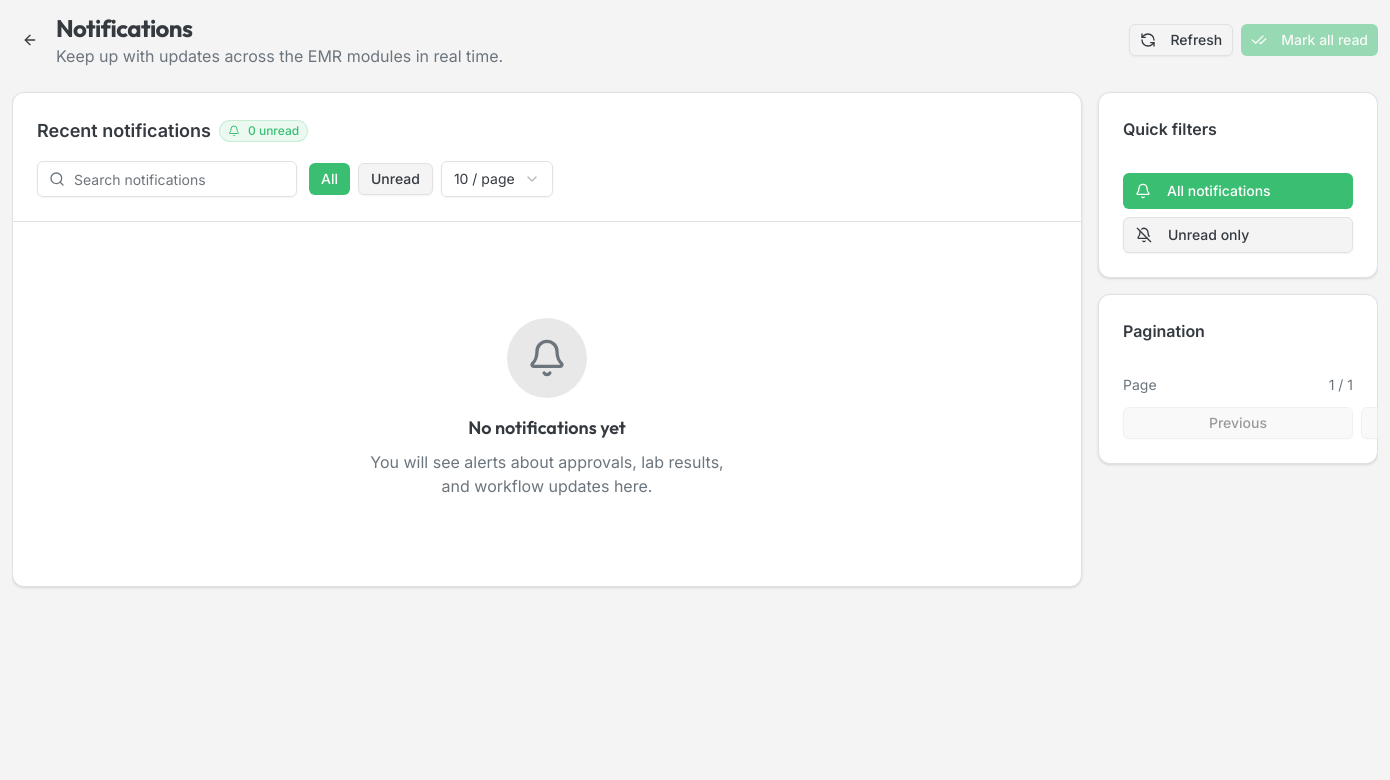
NotificationsPage › renders filter tabs and toggles empty states per filter
This screenshot has width=1390, height=780.
Expected: the button "All" is shown, [309,163,350,195]
Expected: the heading "No notifications yet" is shown, [468,414,626,442]
What coordinates should you click on to do the following:
click the button "Unread"
I would click on:
 (395, 179)
Its box is [358,163,433,195].
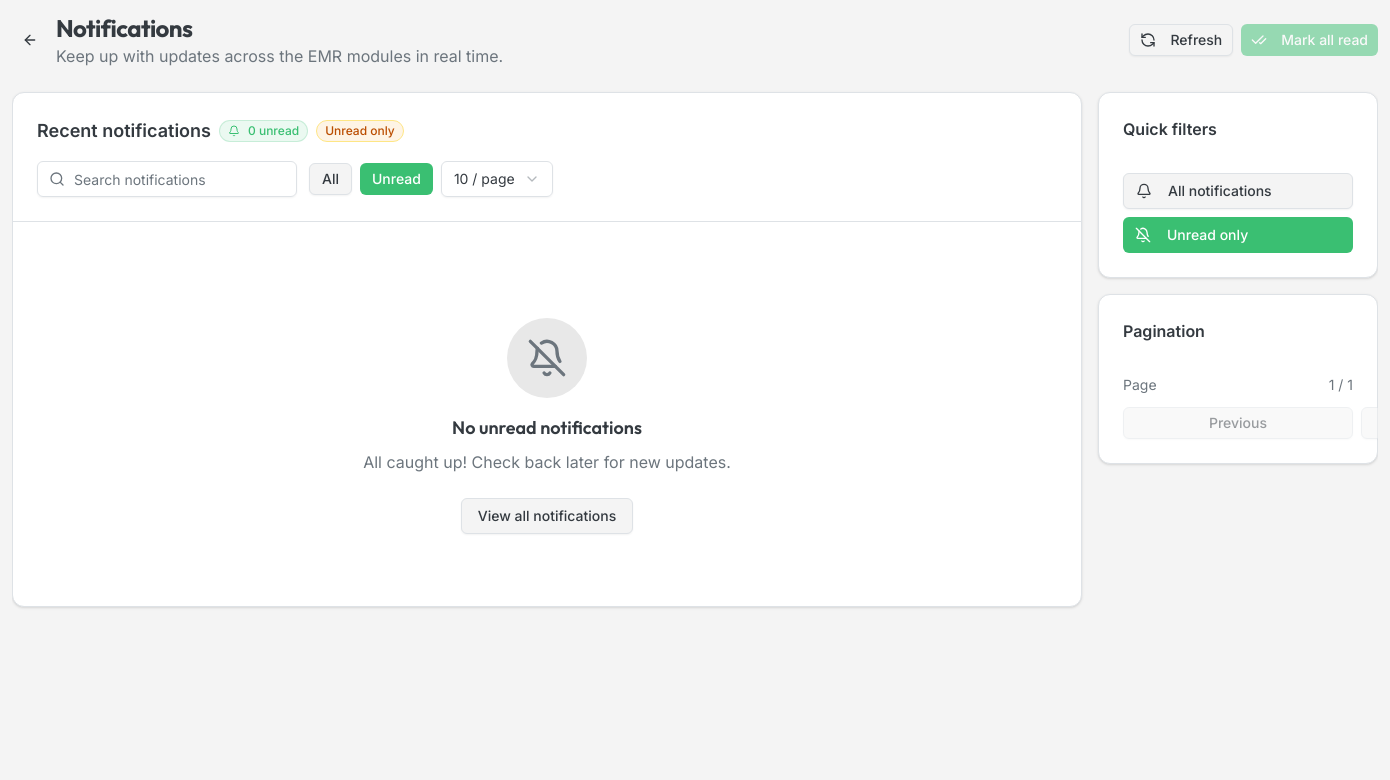
Result: the heading "No unread notifications" is shown at [452,414,642,442]
What coordinates should you click on to do the following:
click the button "View all notifications"
I would click on:
 (547, 516)
Its box is [461,498,633,534].
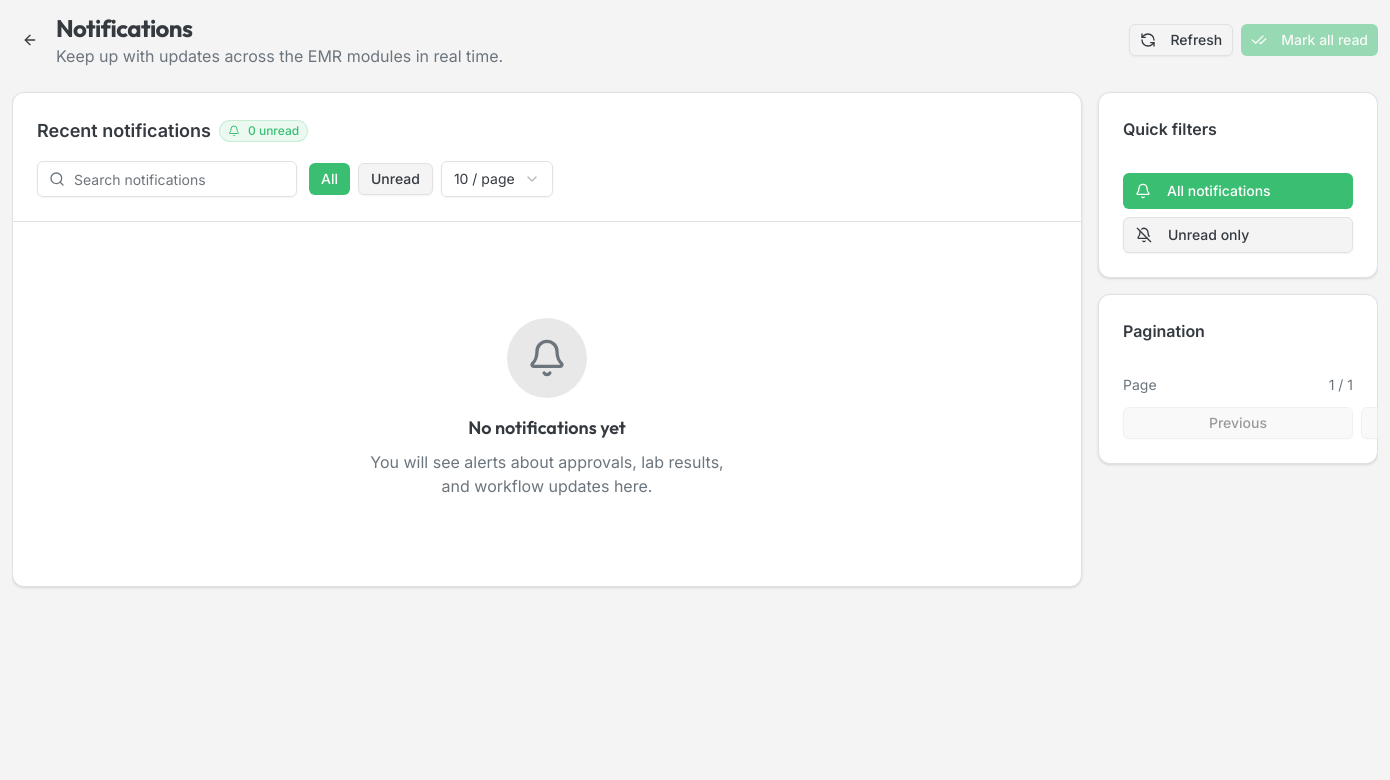
Result: the heading "No notifications yet" is shown at [468,414,626,442]
